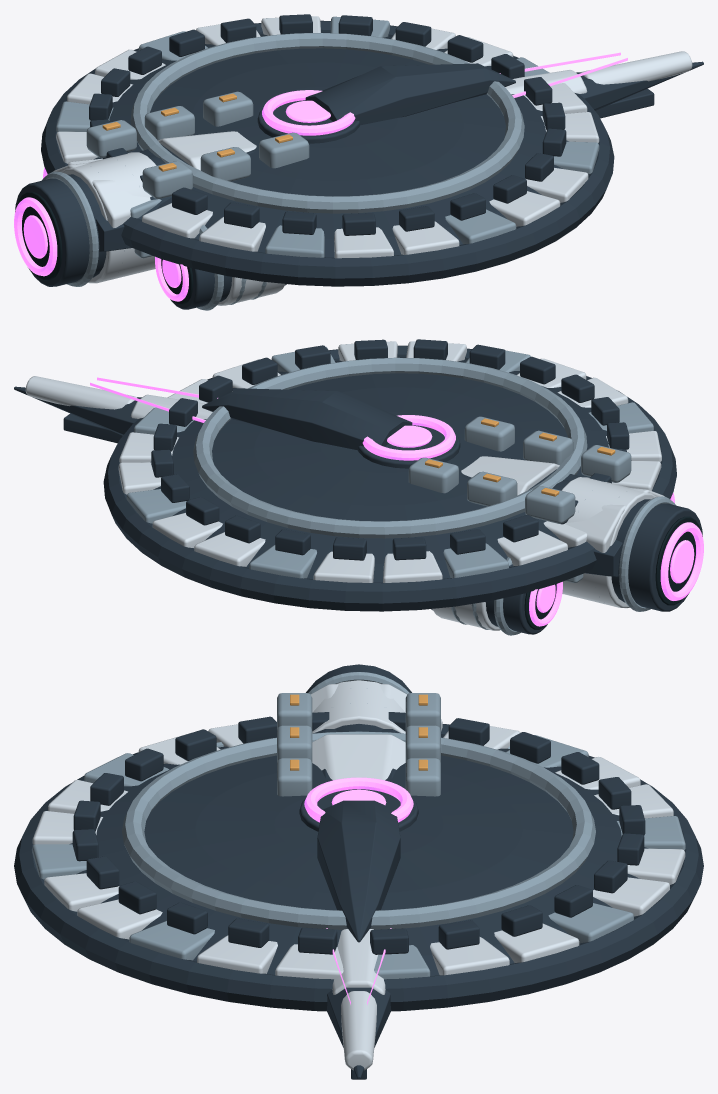
File: ship-11.glb
The picture shows the model from 3 angles, top to bottom: view 1: azimuth 30°, elevation 25°; view 2: azimuth 150°, elevation 25°; view 3: azimuth 270°, elevation 25°; orthographic projection. The views are drawn at different scales.
Visible parts, largest first — view 1: Graphite frame, Machined silver, Ceramic titanium, Ion violet, Carbon insets, Copper contacts; view 2: Graphite frame, Machined silver, Ceramic titanium, Ion violet, Carbon insets, Copper contacts; view 3: Graphite frame, Machined silver, Ceramic titanium, Ion violet, Copper contacts.
Part boxes in pixels (left/top/right/bottom): Graphite frame: left=15, top=14, right=703, bottom=309; Machined silver: left=42, top=16, right=599, bottom=310; Ceramic titanium: left=53, top=16, right=692, bottom=305; Ion violet: left=14, top=52, right=627, bottom=301; Carbon insets: left=17, top=191, right=193, bottom=304; Copper contacts: left=102, top=93, right=292, bottom=171; Graphite frame: left=14, top=339, right=702, bottom=634; Machined silver: left=126, top=346, right=675, bottom=635; Ceramic titanium: left=25, top=341, right=664, bottom=630; Ion violet: left=90, top=377, right=703, bottom=626; Carbon insets: left=524, top=516, right=700, bottom=629; Copper contacts: left=425, top=418, right=615, bottom=496; Graphite frame: left=14, top=664, right=703, bottom=1079; Machined silver: left=32, top=672, right=685, bottom=979; Ceramic titanium: left=32, top=680, right=685, bottom=1070; Ion violet: left=304, top=777, right=413, bottom=1004; Copper contacts: left=290, top=694, right=427, bottom=770.
Bounding box in the file's own units: 6 × 1.15 × 4.65.
